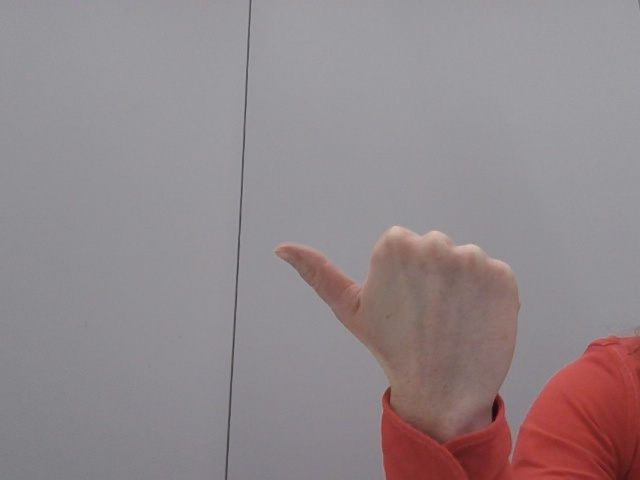right: (263, 208, 535, 467)
